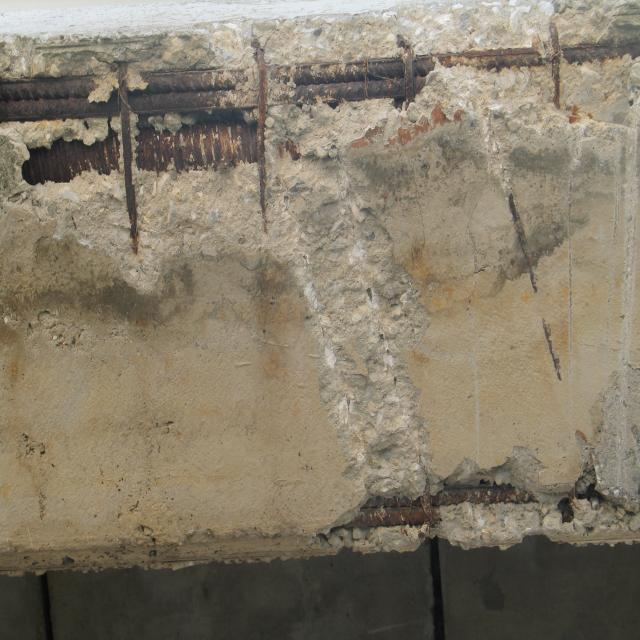corrosion: (0, 18, 640, 118), (9, 123, 298, 260), (320, 426, 640, 543)
